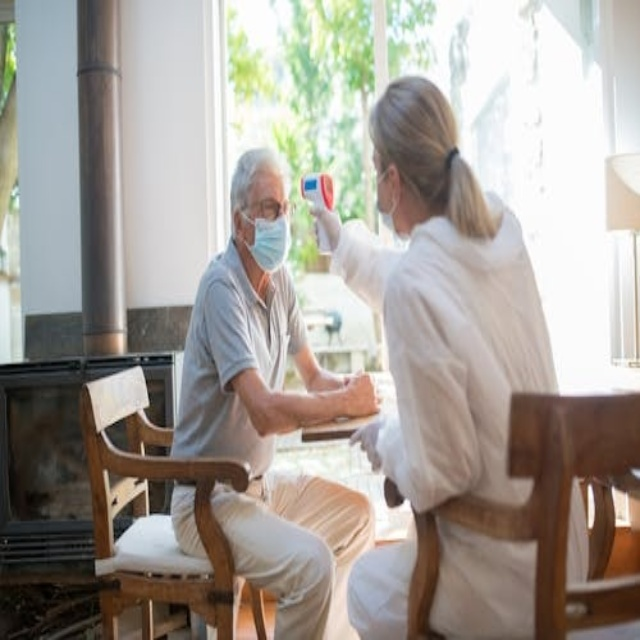Gafas: (242, 197, 297, 220)
Guantes: (347, 414, 389, 472), (307, 194, 342, 258)
Mascara: (242, 210, 290, 272), (377, 175, 405, 238)
Sin_guantes: (308, 371, 382, 422)
